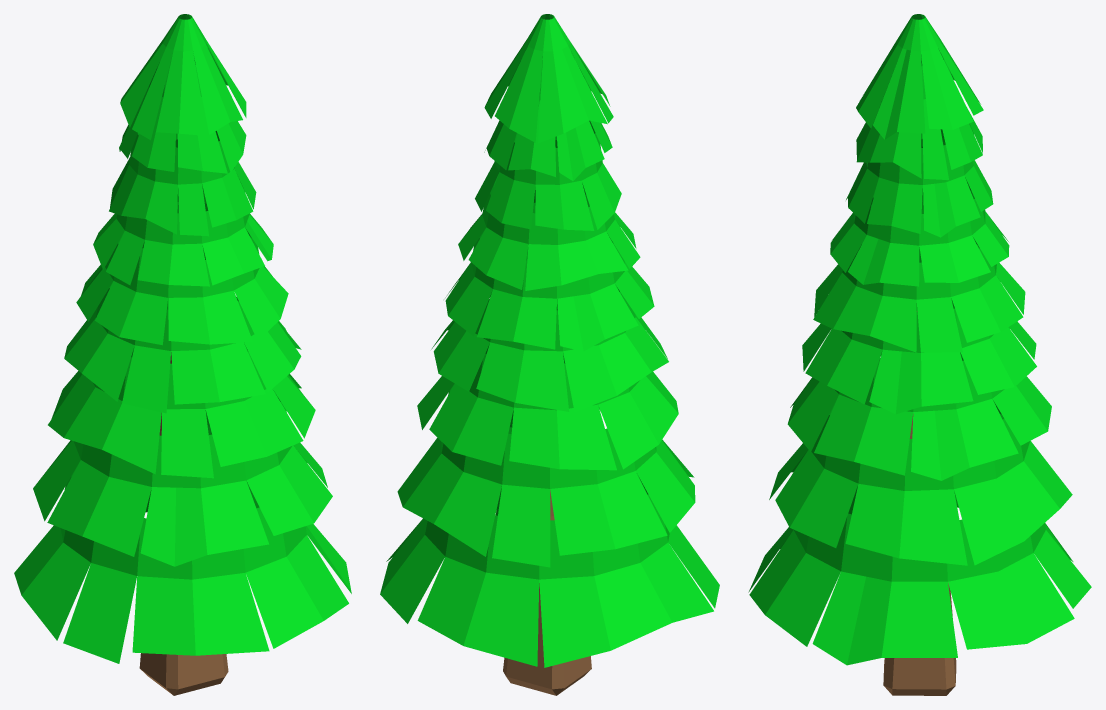
File: Tree1.0.fbx
The picture shows the model from 3 angles, left to right: view 1: azimuth 30°, elevation 25°; view 2: azimuth 150°, elevation 25°; view 3: azimuth 270°, elevation 25°; orthographic projection.
Visible parts, largest first — view 1: BEAM.556; view 2: BEAM.556; view 3: BEAM.556.
Boxes of the visible parts, x1,y1,x2,y2 form: BEAM.556: [14, 14, 351, 695]; BEAM.556: [380, 14, 719, 695]; BEAM.556: [748, 14, 1091, 695].
Bounding box in the file's own units: 559 × 1223 × 570.
